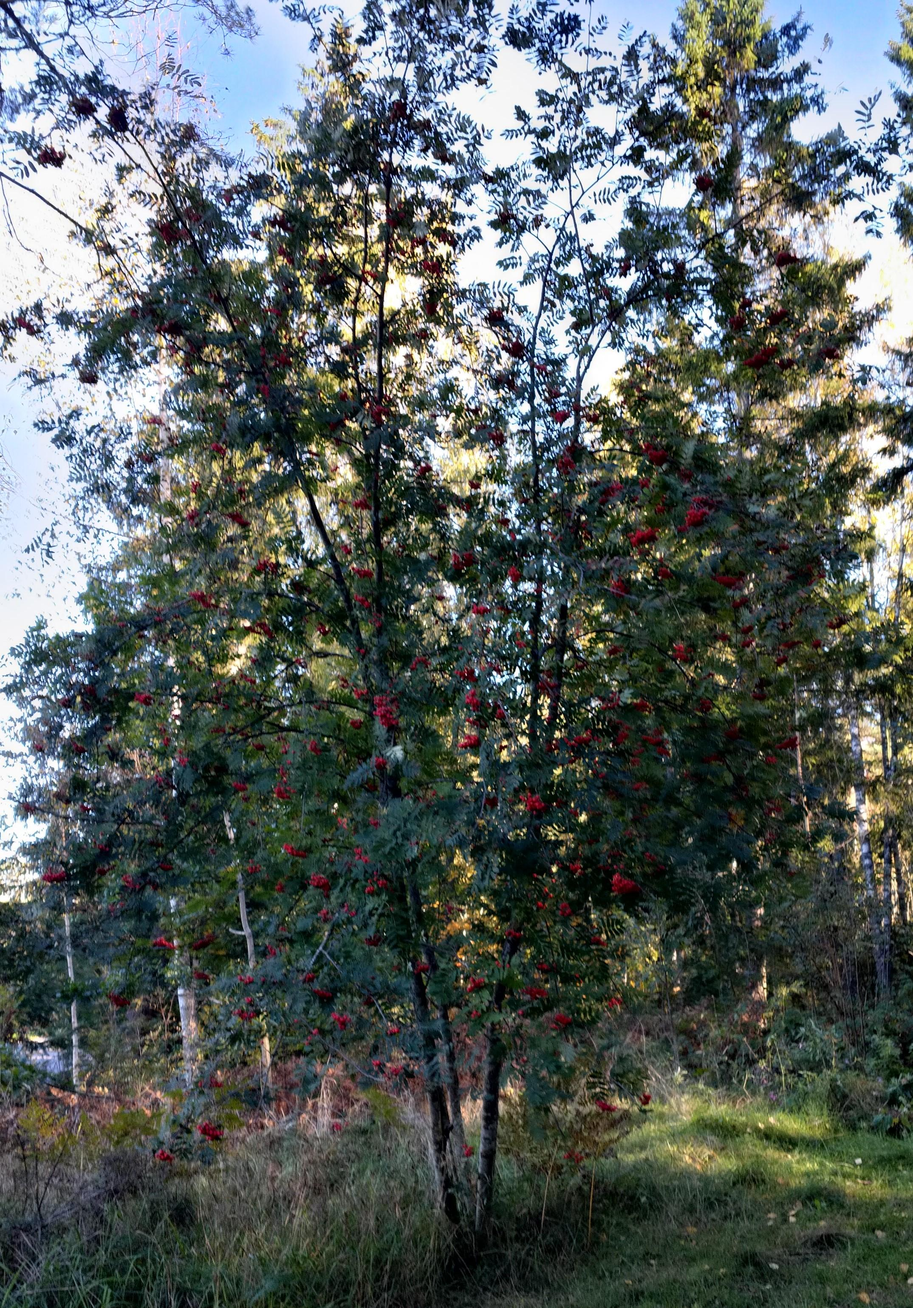Rowan: (173, 0, 751, 1251)
